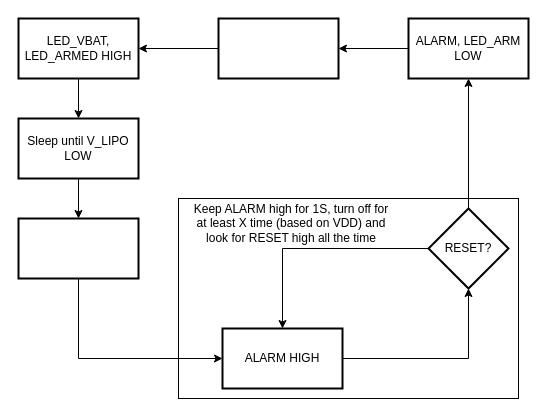
The diagram is 546 pixels wide and 416 high, and some of its shapes have lost their labels. The centre of each missing label's shape, as x and y in pixels:
"LED_VBAT LOW" goes at point (78, 248).
"Sleep until V_LIPO High" goes at point (278, 48).
